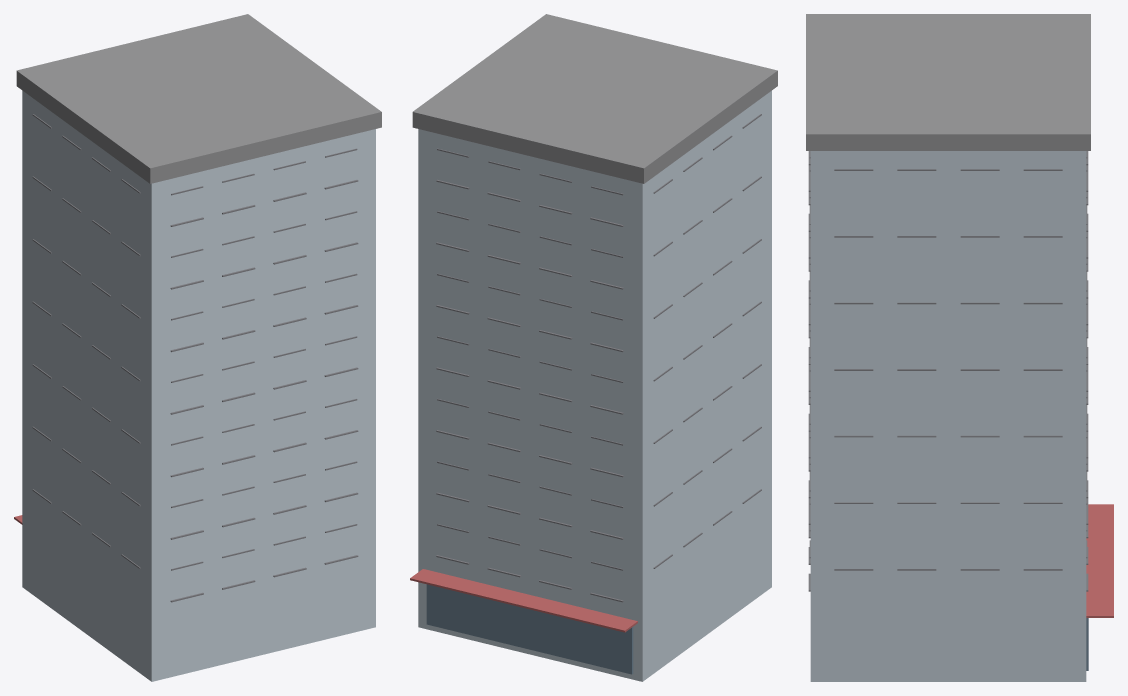
File: Building_Tower_A.fbx
The picture shows the model from 3 angles, left to right: view 1: azimuth 30°, elevation 25°; view 2: azimuth 150°, elevation 25°; view 3: azimuth 270°, elevation 25°; orthographic projection. The views are drawn at different scales.
Visible parts, largest first — view 1: Building_Tower_A_Mesh; view 2: Building_Tower_A_Mesh; view 3: Building_Tower_A_Mesh.
Part boxes in pixels (<box>): Building_Tower_A_Mesh: <box>14,14,381,681</box>; Building_Tower_A_Mesh: <box>410,14,777,681</box>; Building_Tower_A_Mesh: <box>806,14,1113,681</box>.
Size of the model in its own units: 12.4 by 13.4 by 26.4.
